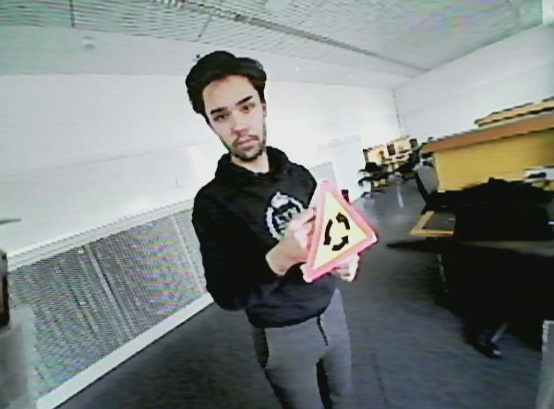roundabout_warning: (291, 174, 382, 291)
